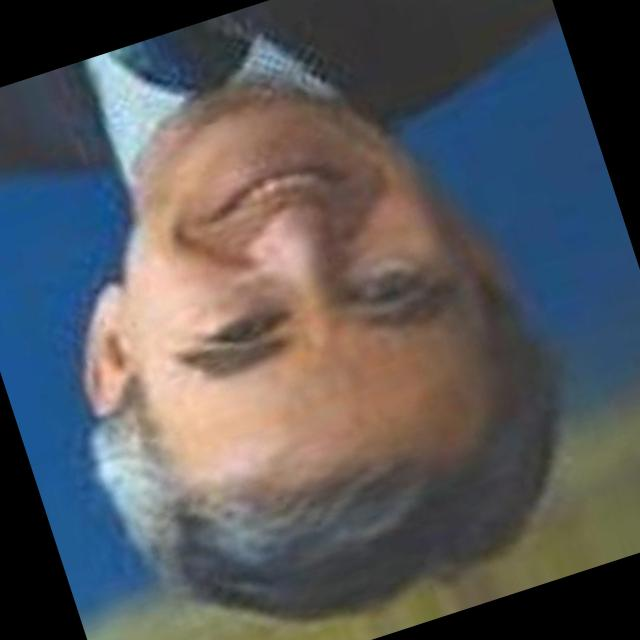bareface: (27, 64, 583, 640)
